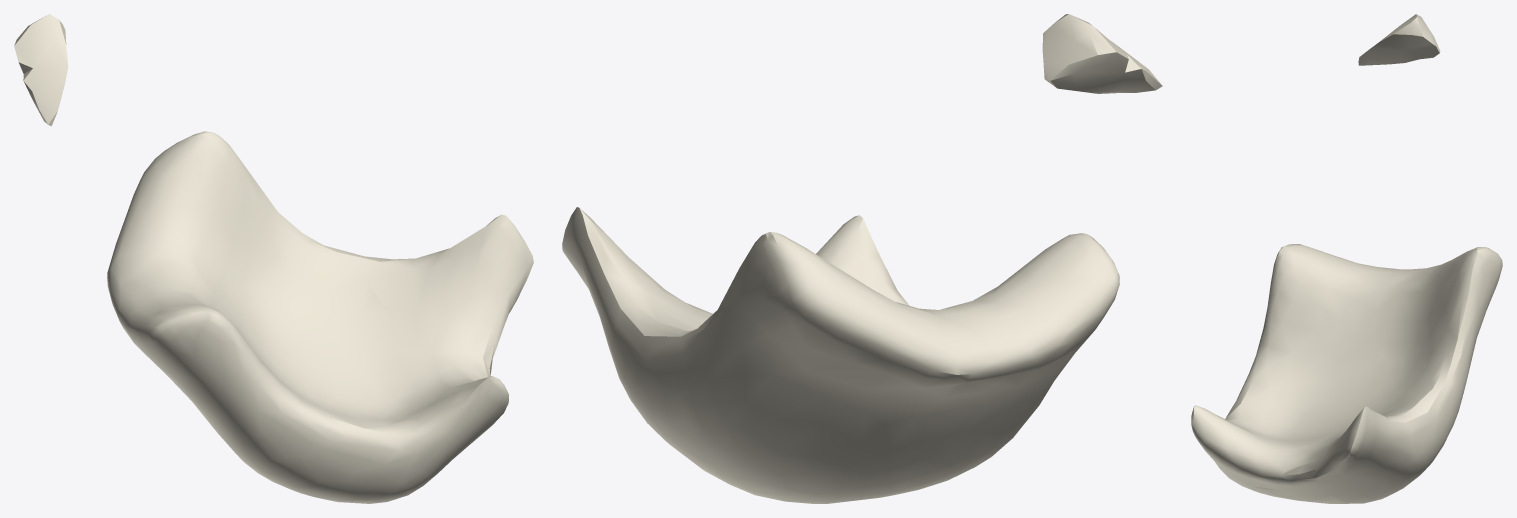
The model's file is fma296539_mm1560.glb.
The picture shows the model from 3 angles, left to right: view 1: azimuth 30°, elevation 25°; view 2: azimuth 150°, elevation 25°; view 3: azimuth 270°, elevation 25°; orthographic projection. The views are drawn at different scales.
Parts seen in each view (by area): view 1: FMA296539_MM1560; view 2: FMA296539_MM1560; view 3: FMA296539_MM1560.
Part boxes in pixels (box(x1,y1,x2,y2)): FMA296539_MM1560: box(14, 14, 533, 503); FMA296539_MM1560: box(562, 14, 1162, 503); FMA296539_MM1560: box(1191, 14, 1502, 503).
Bounding box in the file's own units: 0.02 × 0.0188 × 0.0139.
